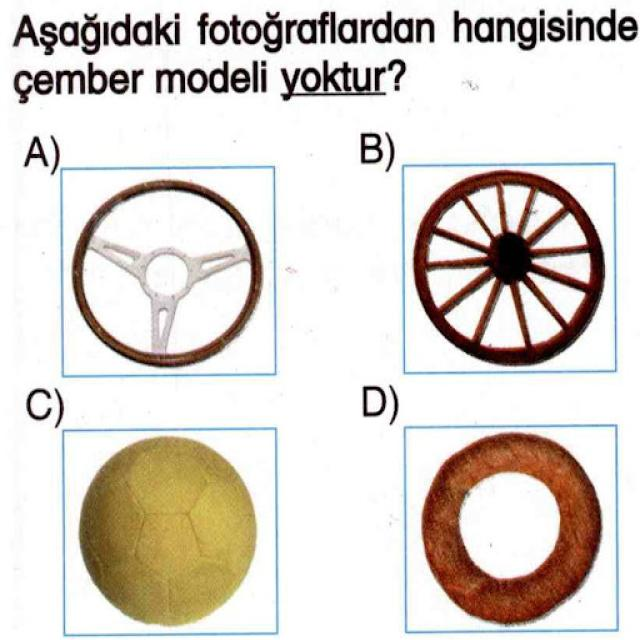-circle-round-: (72, 431, 272, 636), (65, 176, 266, 378), (408, 174, 610, 367), (415, 428, 610, 626)
